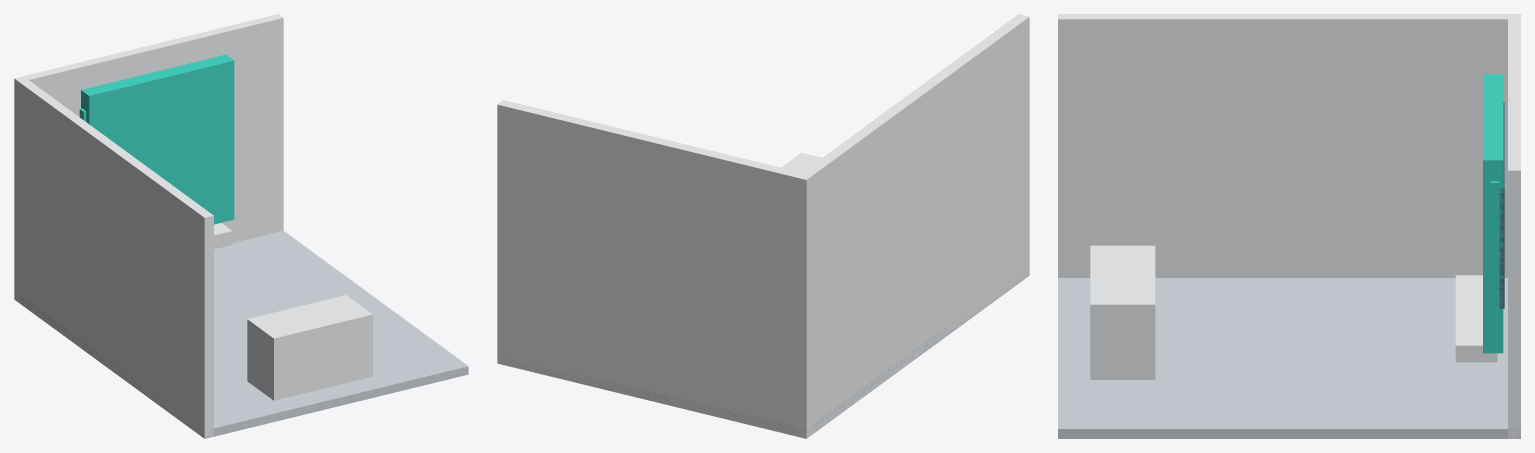
3 renders of one model, left to right at view 1: azimuth 30°, elevation 25°; view 2: azimuth 150°, elevation 25°; view 3: azimuth 270°, elevation 25°, orthographic. The views are drawn at different scales.
Visible parts, largest first — view 1: Exhibition Booth Concept; view 2: Exhibition Booth Concept; view 3: Exhibition Booth Concept.
Part boxes in pixels (bbox=[...]): Exhibition Booth Concept: bbox=[14, 14, 468, 438]; Exhibition Booth Concept: bbox=[497, 14, 1029, 438]; Exhibition Booth Concept: bbox=[1058, 14, 1520, 438].
Size of the model in its own units: 4 by 3.2 by 5.
